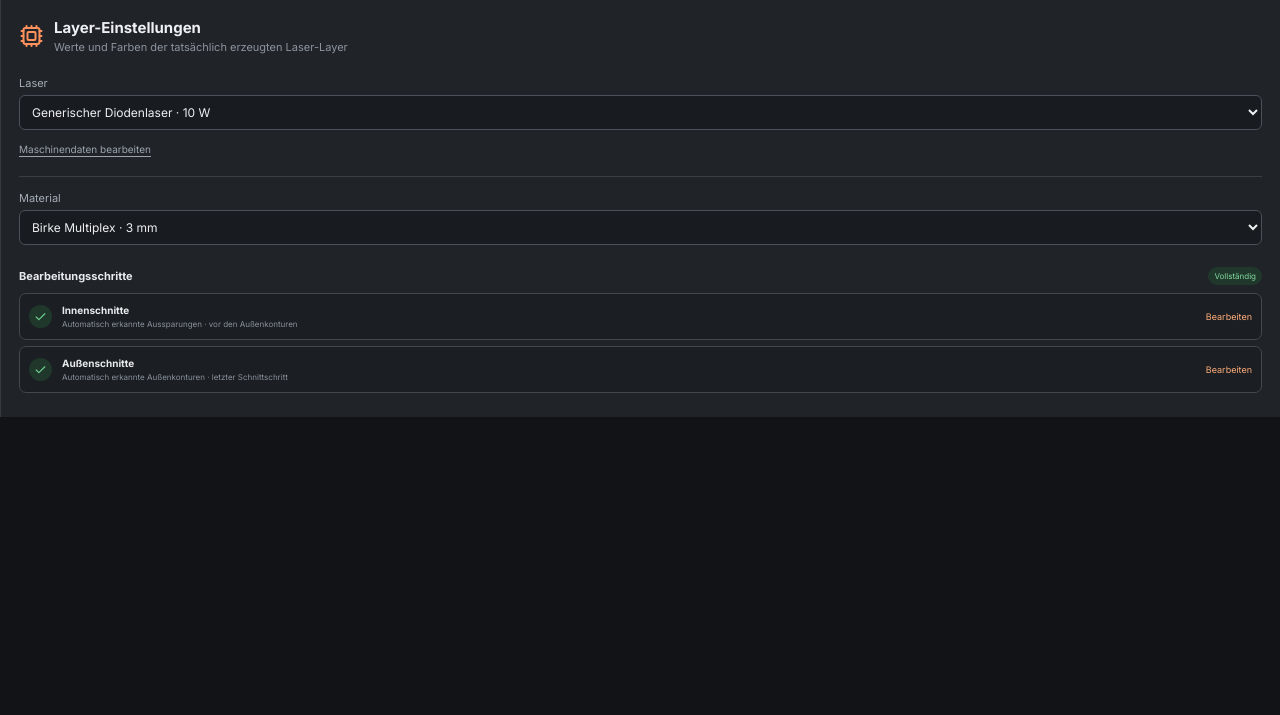
Scenario: LaserManager › edits machine data, clamps watts and creates a copied machine
The width and height of the screenshot is (1280, 715).
Click the button "Maschinendaten bearbeiten" at (85, 149), box [19,140,151,158]
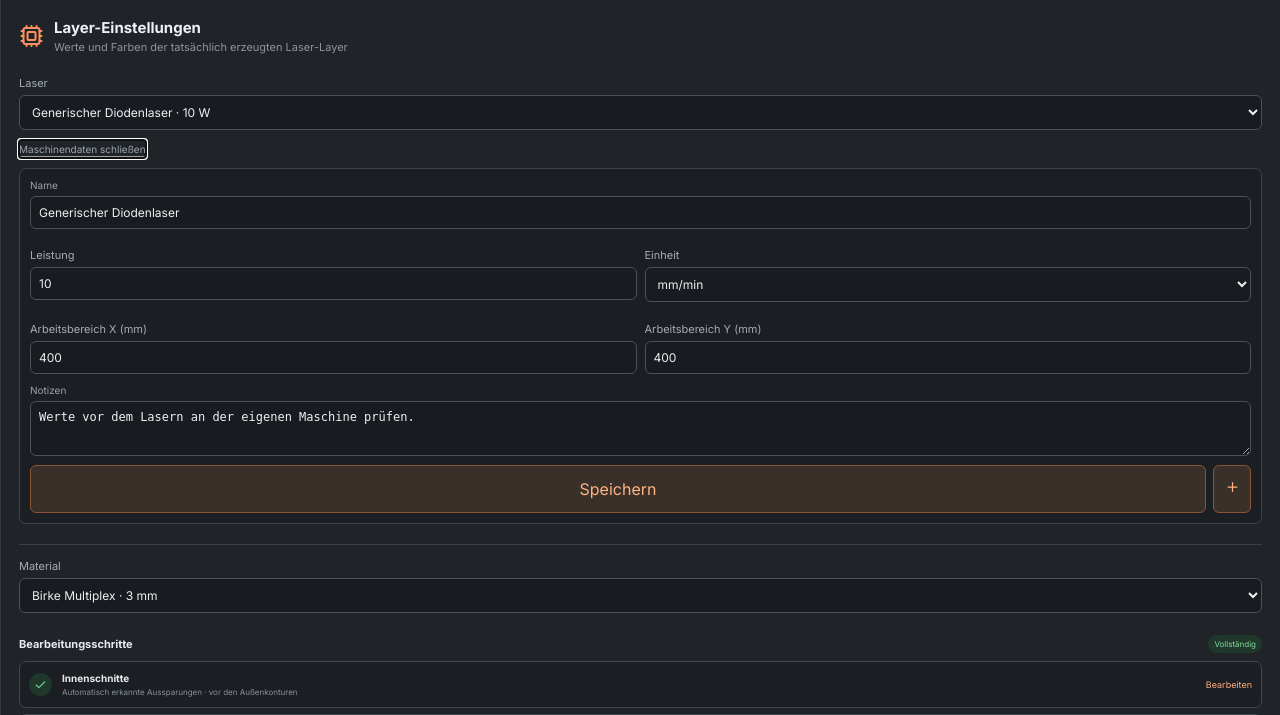
Replace the text in the field labelled "Name" with "Werkstattlaser" at (640, 212), box [30,196,1251,229]
Replace the text in the number field labelled "Leistung" with "0" at (333, 284), box [30,267,636,300]
Select "mm/s" in the dropdown labelled "Einheit" at (948, 284), box [644,267,1251,302]
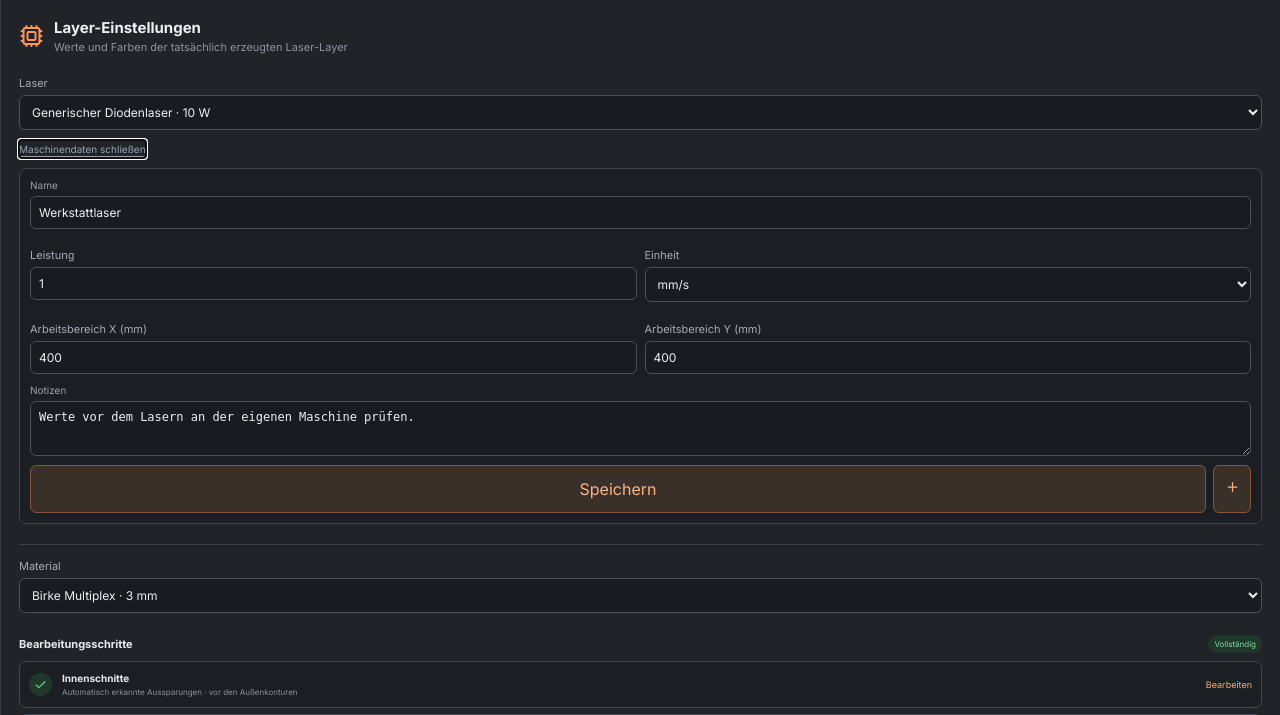
Replace the text in the text box labelled "Notizen" with "Testnotiz" at (640, 428), box [30,401,1251,456]
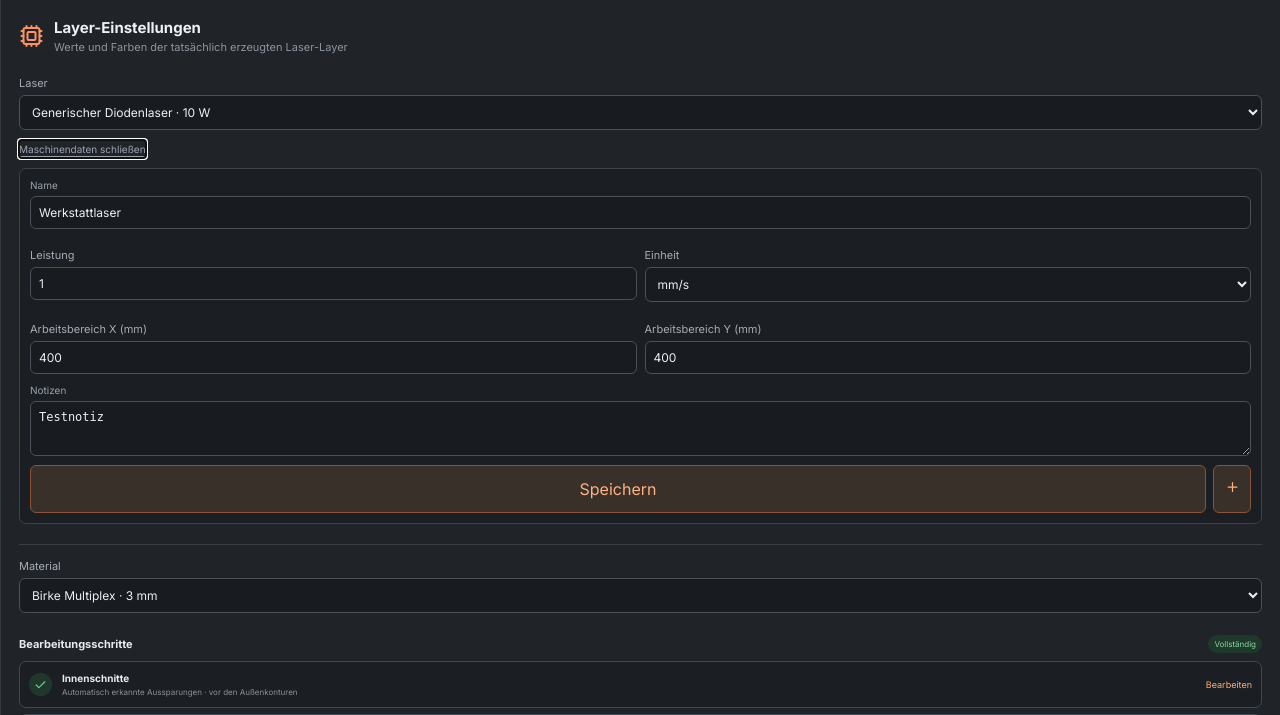
Click the button "Speichern" at (618, 489), box [30,465,1206,513]
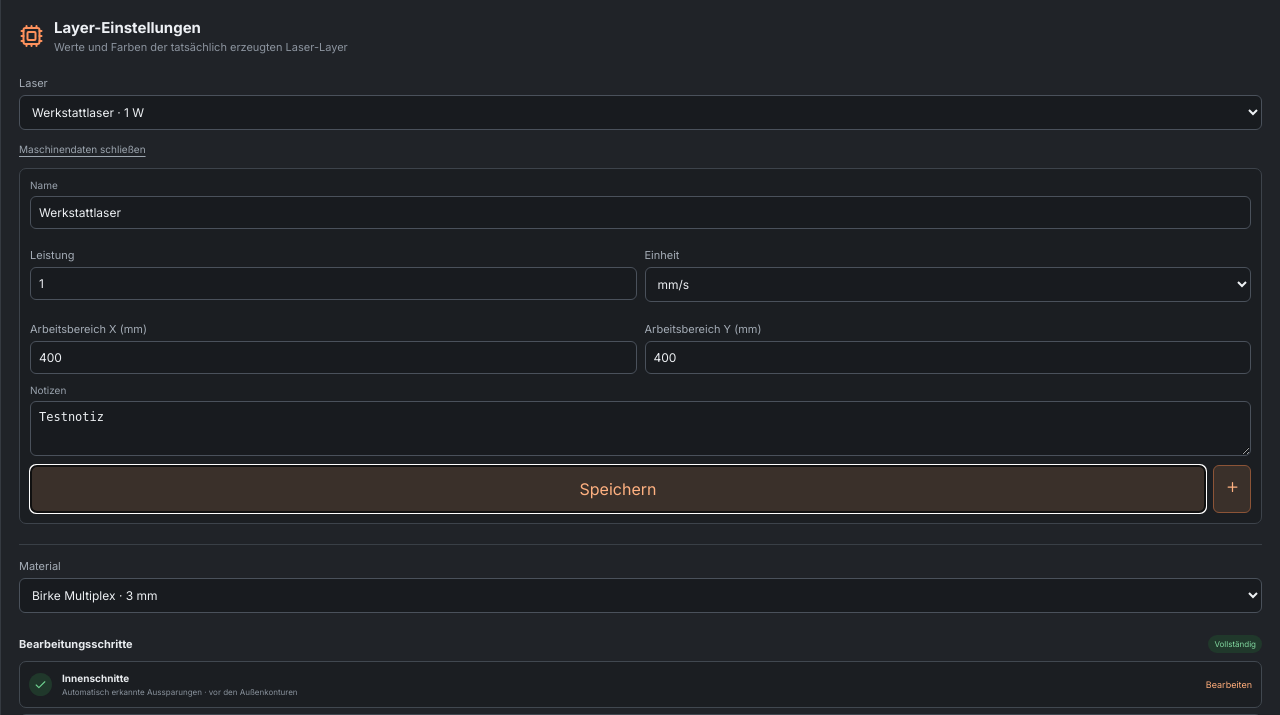
Click the button titled "Neue Maschine als Kopie" at (1232, 489), box [1213,465,1251,513]
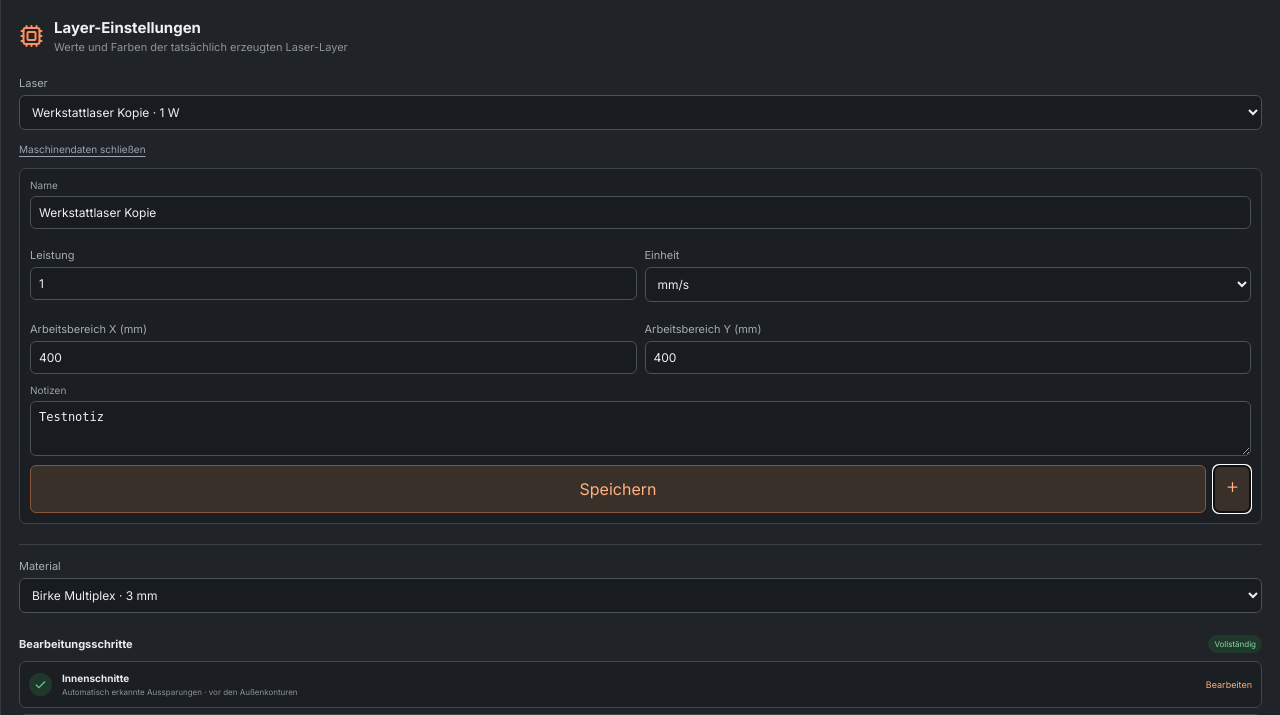
Click the button "Maschinendaten schließen" at (82, 149), box [19,140,146,158]
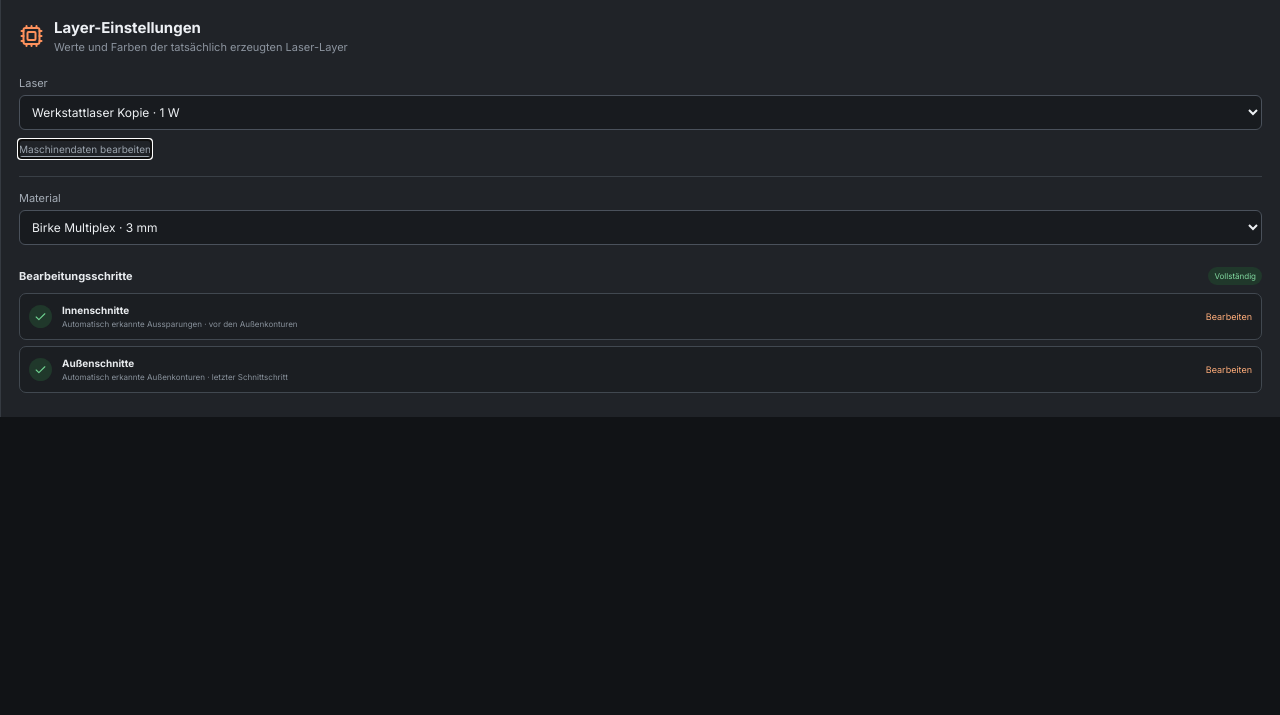
expect the element with class "machine-details-panel" is gone: met
